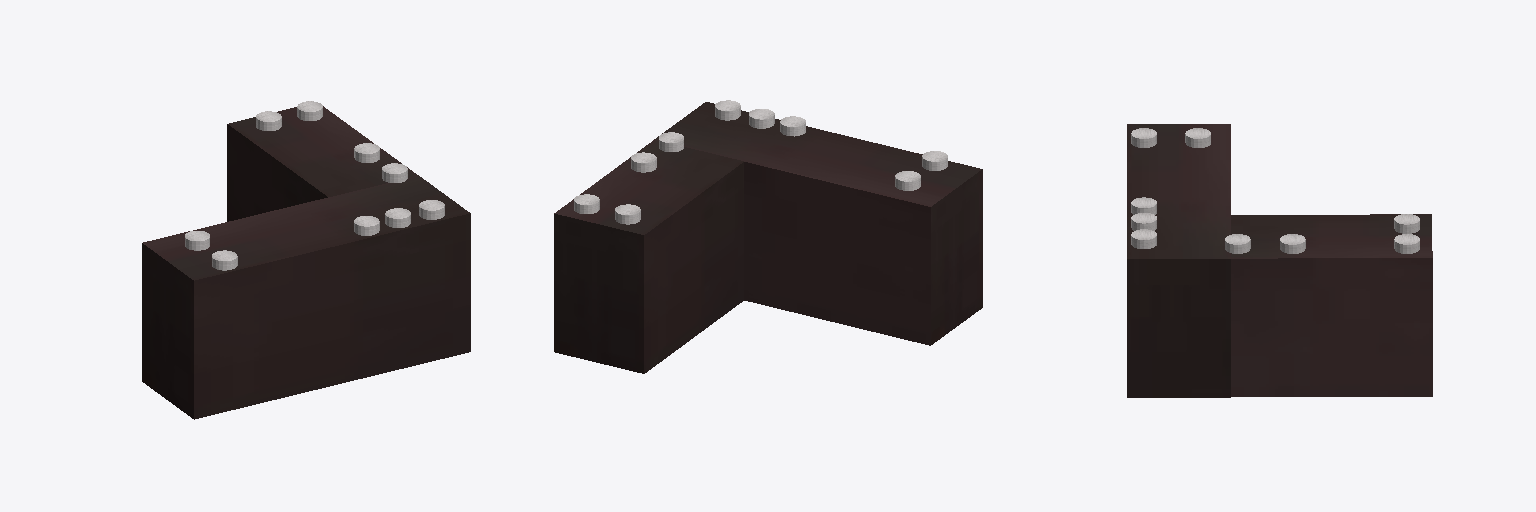
3 views of the same model, side by side, from view 1: azimuth 30°, elevation 25°; view 2: azimuth 150°, elevation 25°; view 3: azimuth 270°, elevation 25° (orthographic).
Visible parts, largest first — view 1: pCube2, polySurface2; view 2: pCube2, polySurface2; view 3: pCube2, polySurface2.
Part boxes in pixels (x1,y1,x2,y2): pCube2: (142,106,470,419); polySurface2: (185,101,444,270); pCube2: (554,102,982,373); polySurface2: (574,100,947,224); pCube2: (1127,124,1432,397); polySurface2: (1131,128,1419,253).
Bounding box in the file's own units: 3.08 × 1.57 × 2.94.
11 materials, 2 textured.